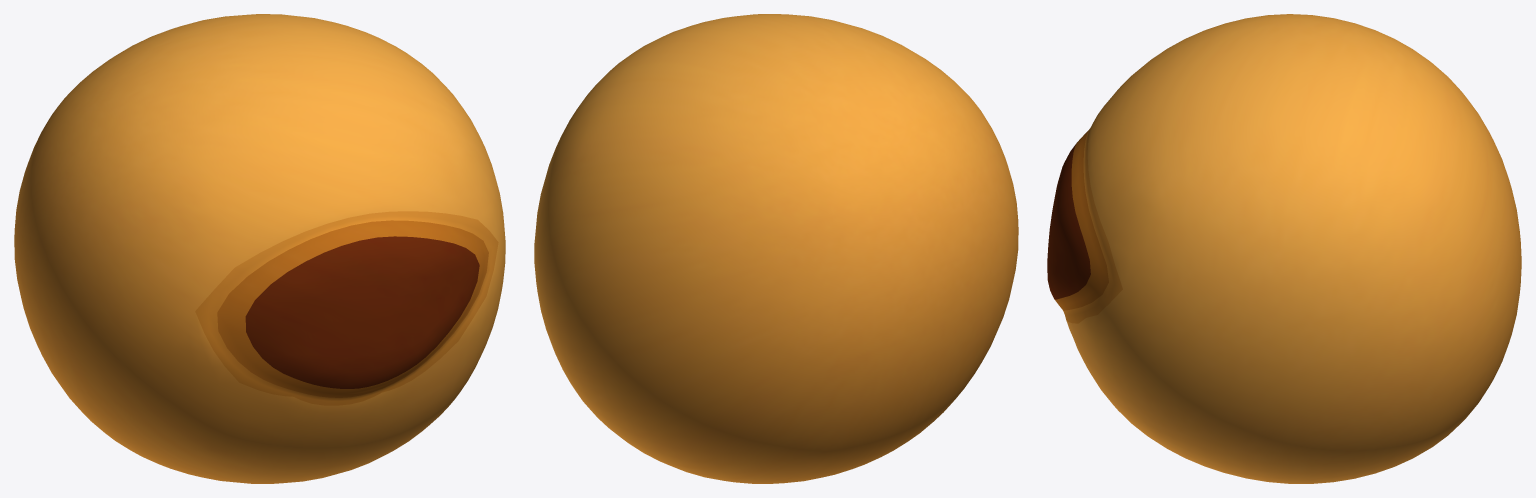
Rendered from Ingredient_NewtEye.fbx.
3 views of the same model, side by side, from view 1: azimuth 30°, elevation 25°; view 2: azimuth 150°, elevation 25°; view 3: azimuth 270°, elevation 25° (orthographic). The views are drawn at different scales.
Parts seen in each view (by area): view 1: Ingredient_NewtEye; view 2: Ingredient_NewtEye; view 3: Ingredient_NewtEye.
Boxes of the visible parts, <box> form: Ingredient_NewtEye: <box>14,14,505,483</box>; Ingredient_NewtEye: <box>534,14,1018,483</box>; Ingredient_NewtEye: <box>1047,14,1521,483</box>.
Size of the model in its own units: 97.54 by 93.98 by 98.56.
Materials: 1 (1 with a texture image).
